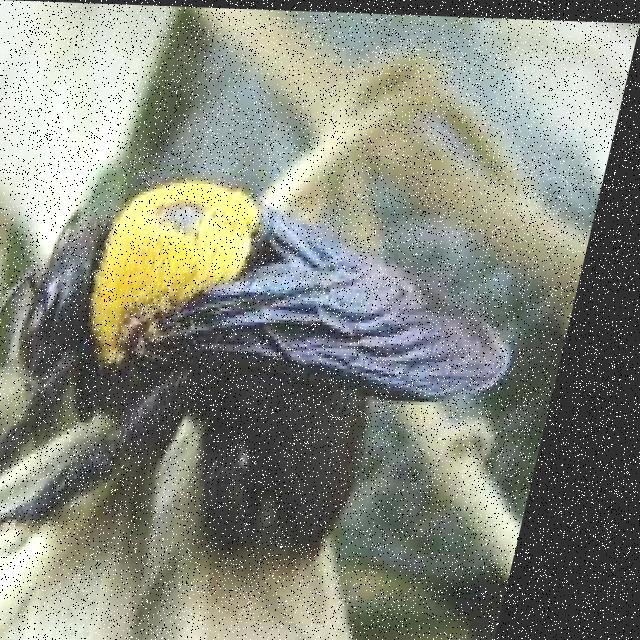Xylocopa: (0, 159, 554, 589)
